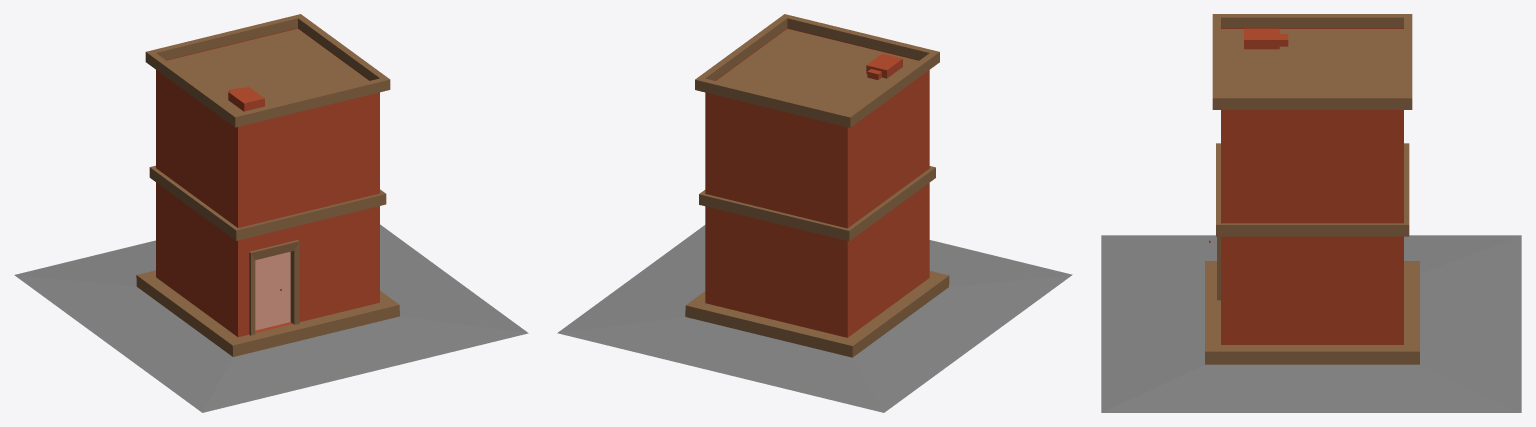
The model's file is HouseAndLotniNyep.fbx.
3 renders of one model, left to right at view 1: azimuth 30°, elevation 25°; view 2: azimuth 150°, elevation 25°; view 3: azimuth 270°, elevation 25°, orthographic. The views are drawn at different scales.
Visible parts, largest first — view 1: Cube; view 2: Cube; view 3: Cube.
Part boxes in pixels (x1=…): Cube: x1=14, y1=14, x2=528, y2=412; Cube: x1=557, y1=14, x2=1072, y2=412; Cube: x1=1101, y1=14, x2=1521, y2=412.
Size of the model in its own units: 2927 by 2046 by 2927.
